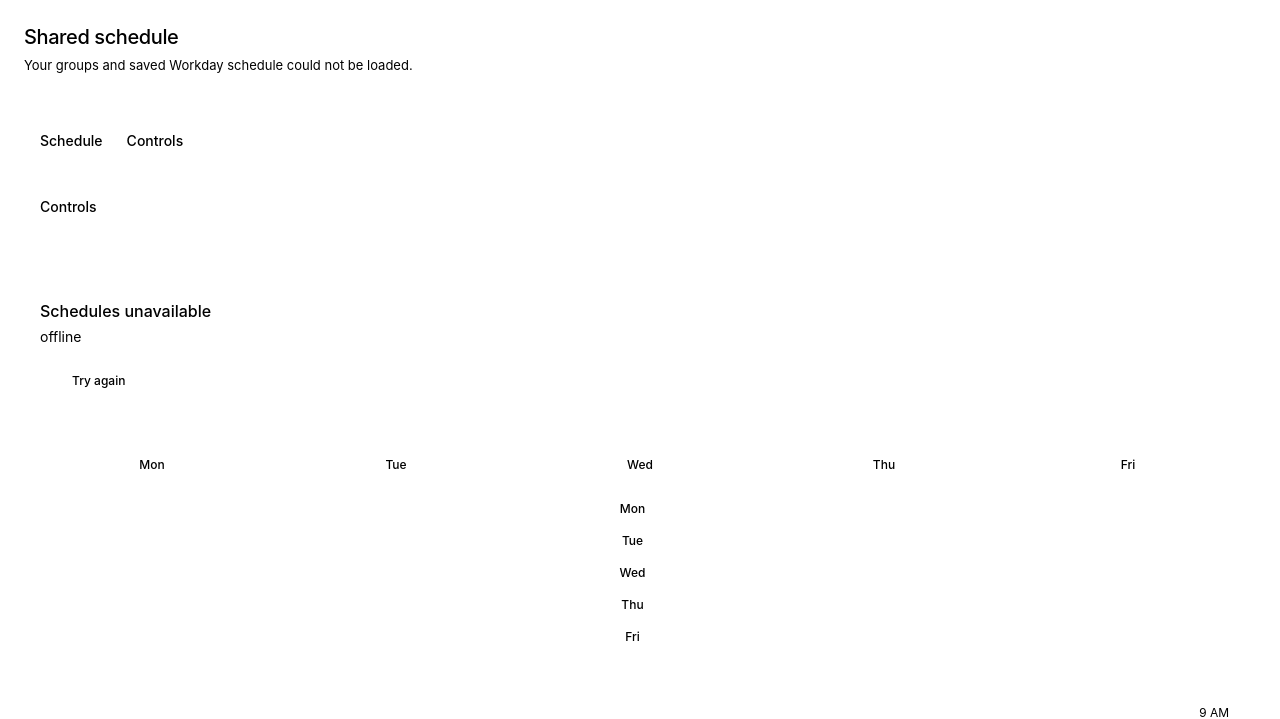
Test: ScheduleApp group loading › keeps an initial load failure distinct from an empty schedule and retries
Expected: the text "Your empty week is ready" is not shown
Click the button "Try again": x=89, y=381 top-left (40, 359), bottom-right (137, 403)
(page scrolled)
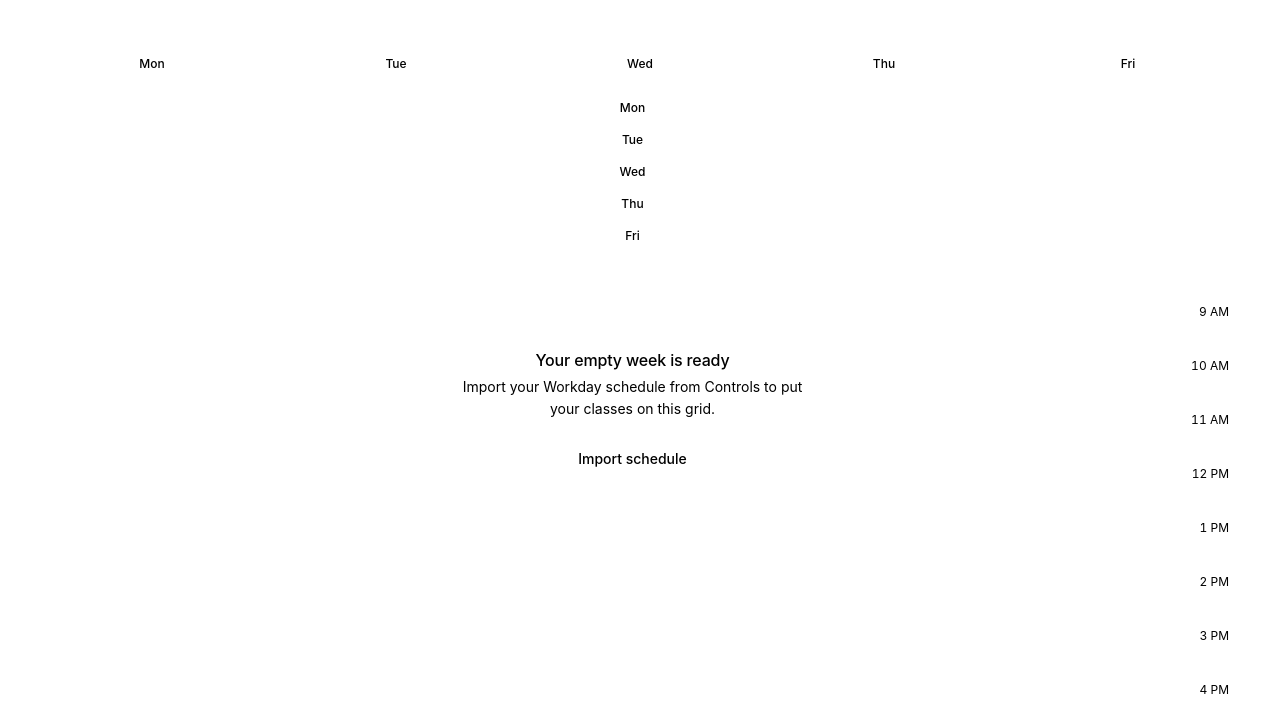
Result: the heading "Your empty week is ready" is shown at top-left (536, 350), bottom-right (730, 370)
